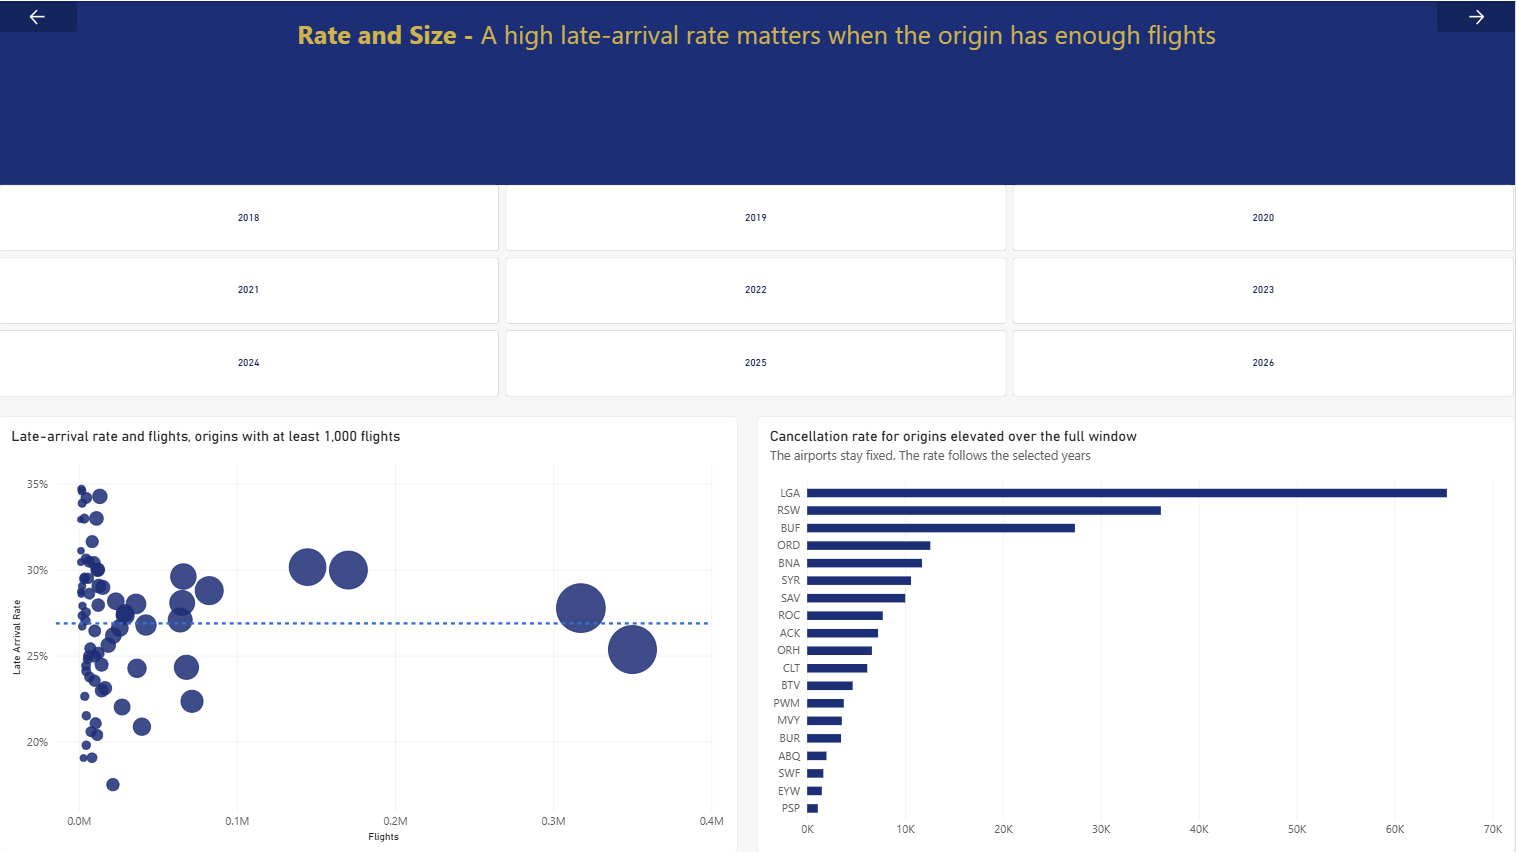

The dashboard page shown, as its layout file describes it:
{"tool":"powerbi","page":{"name":"Rate and Size","canvas":[1920,1080],"ordinal":4},"visuals":[{"type":"scatterChart","title":"Late-arrival rate and flights, origins with at least 1,000 flights","fields":{"Category":["Dim_Origin.Airport"],"Size":["Fact_Flight.Arrival Delay Minutes"],"X":["Fact_Flight.Flights"],"Y":["Fact_Flight.Late Arrival Rate"]},"box":[0,524.4,935.9,555.3],"z":0},{"type":"barChart","title":"Cancellation rate for origins elevated over the full window","fields":{"Category":["Dim_Origin.Airport"],"Y":["Fact_Flight.Flights"]},"box":[960.2,524.4,960.2,555.3],"z":1000},{"type":"shape","box":[0,0,1920.4,232.6],"z":2000},{"type":"textbox","box":[0,20.6,1920.4,185.2],"z":3000},{"type":"advancedSlicerVisual","fields":{"Values":["Dim_Month.Month_Start.Variation.Date Hierarchy.Year"]},"box":[0,232.3,1920.4,269.9],"z":4000},{"type":"actionButton","box":[0,0,100,40],"z":5000},{"type":"textbox","box":[100,100,300,300],"z":6000},{"type":"actionButton","box":[1820.9,0,100,40],"z":7000}]}

Visuals, with their boxes in screenshot pixels (x1, y1, x2, y2), scaled from the page's 1920x1080 canvas onto the 1516x852 screenshot:
"Late-arrival rate and flights, origins with at least 1,000 flights" scatterChart: [0,414,739,851]
"Cancellation rate for origins elevated over the full window" barChart: [758,414,1515,851]
shape: [0,0,1515,183]
textbox: [0,16,1515,162]
advancedSlicerVisual - Dim_Month.Month_Start.Variation.Date Hierarchy.Year: [0,183,1515,396]
actionButton: [0,0,79,32]
textbox: [79,79,316,316]
actionButton: [1438,0,1515,32]
